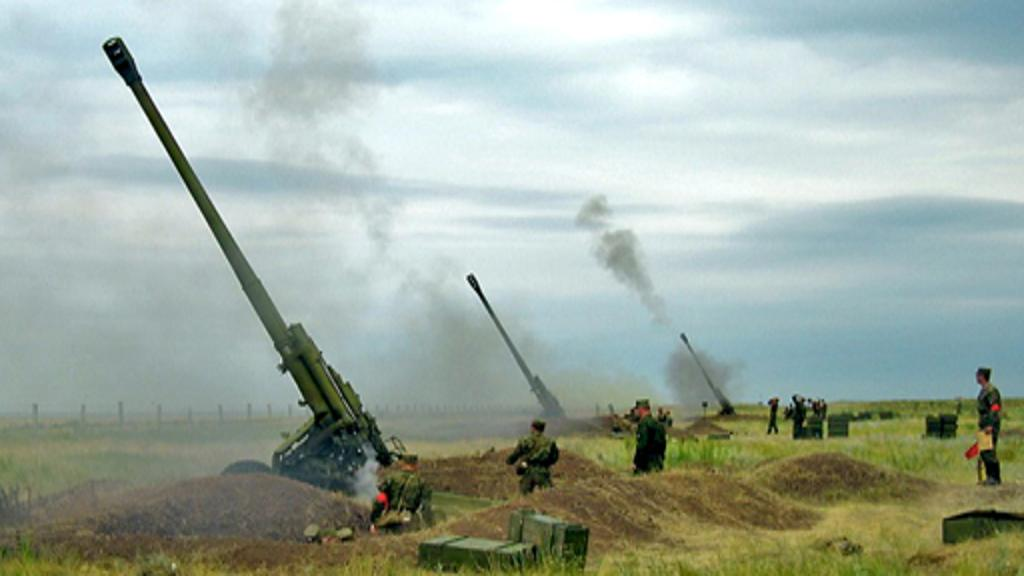ART: (94, 33, 400, 505), (464, 268, 572, 437), (676, 328, 736, 420)
